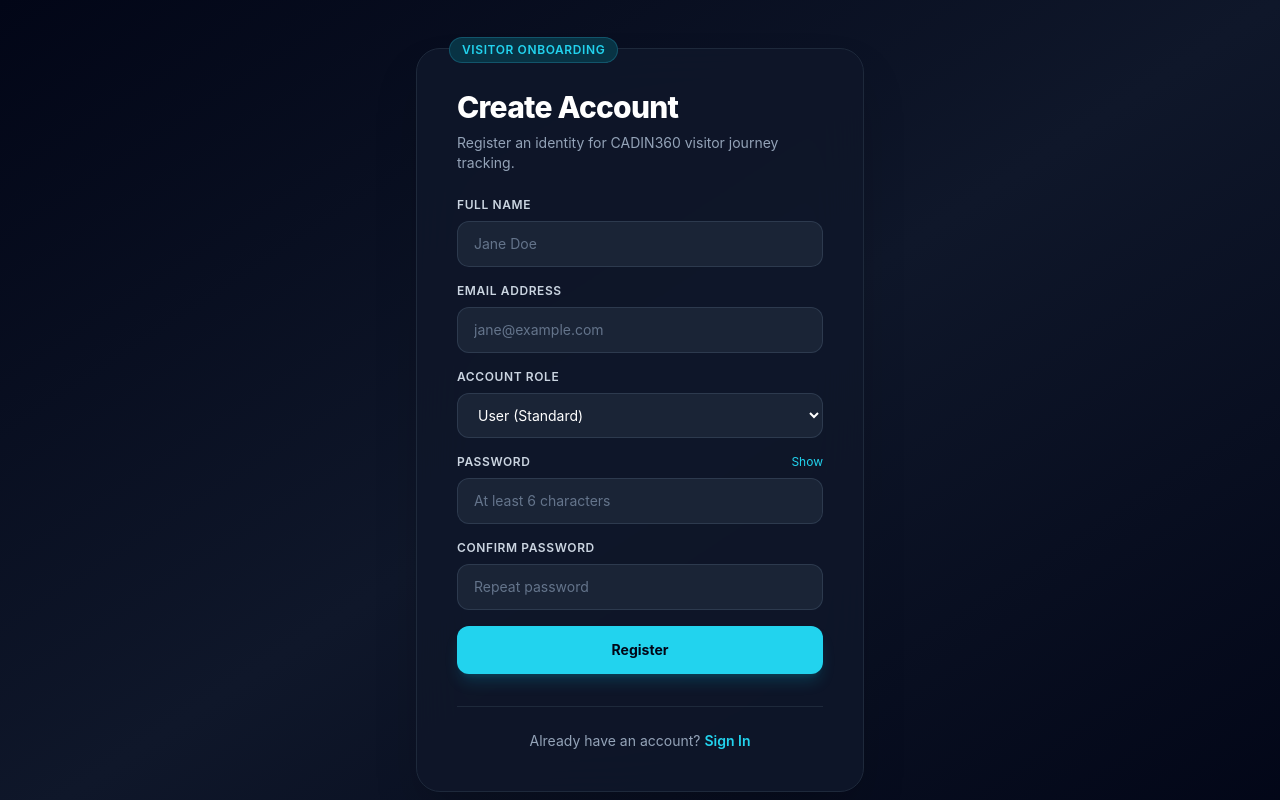
Test: Toast displays backend success message upon registration
Step 1. Type "Tester" into the field labelled "Full Name" → (640, 244), box [457,221,823,267]
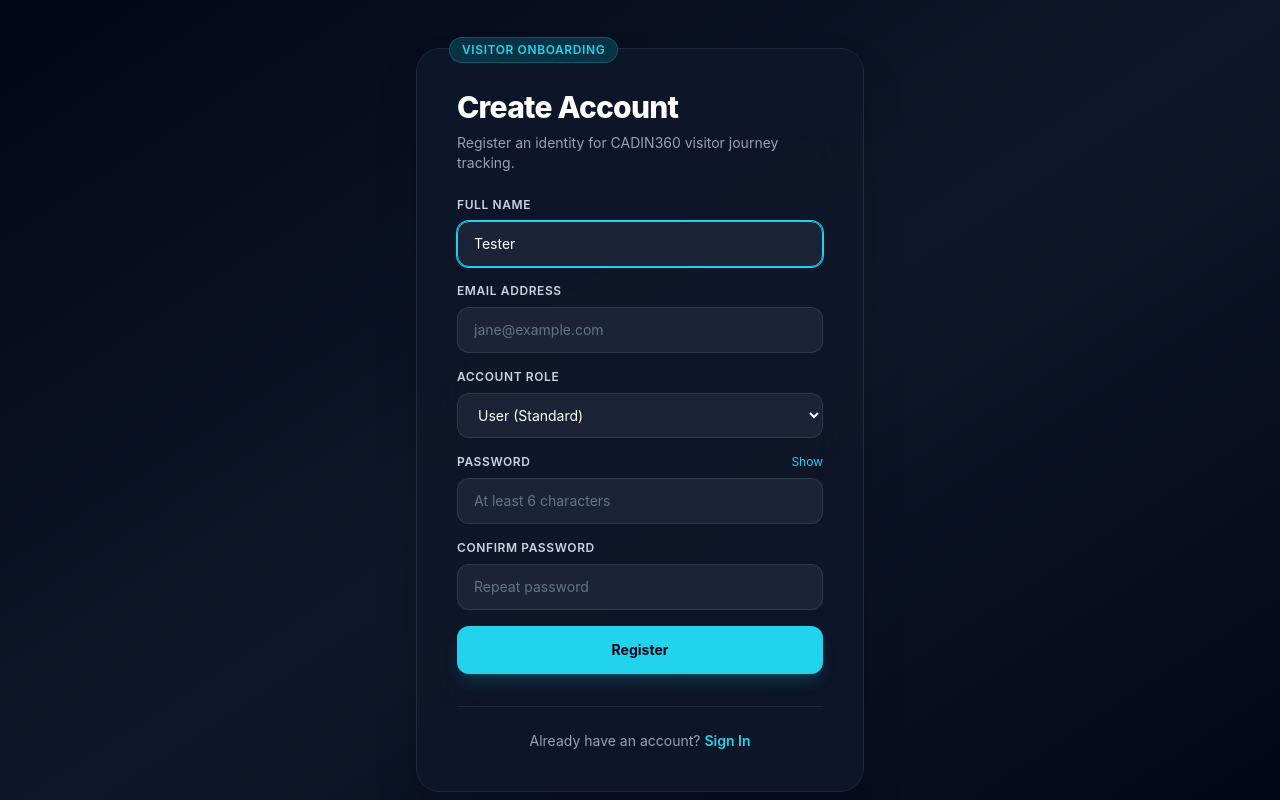
Step 2. Type "test@example.com" into the field labelled "Email Address" → (640, 330), box [457,307,823,353]
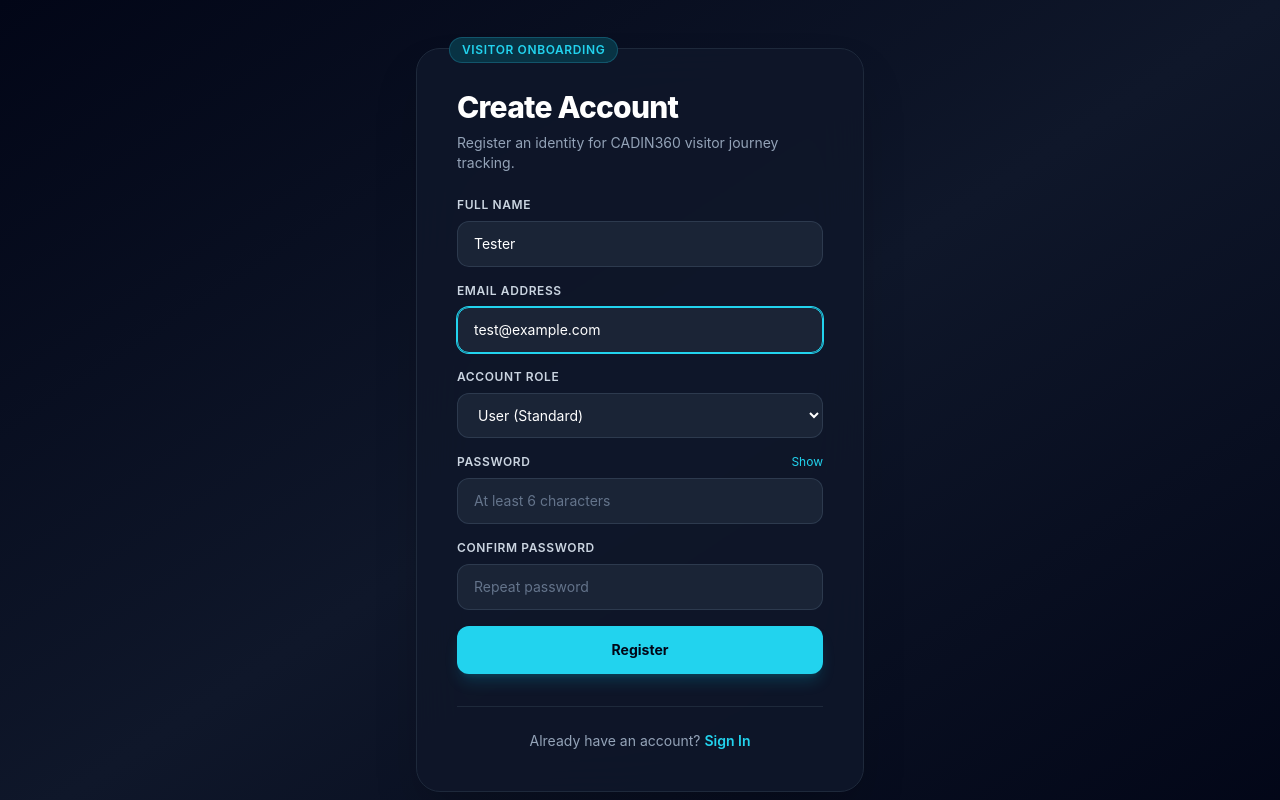
Step 3. Type "password123" into the password field labelled "Password" → (640, 501), box [457,478,823,524]
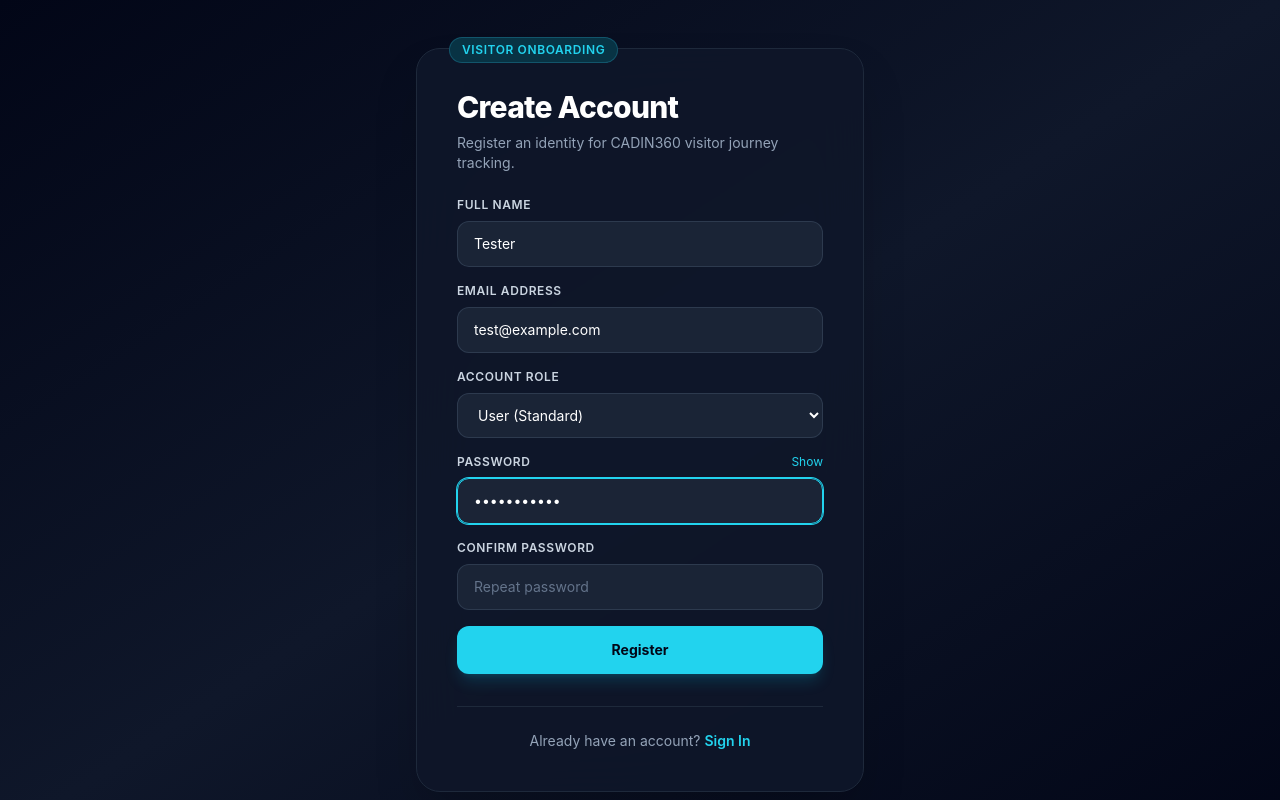
Step 4. Type "password123" into the password field labelled "Confirm Password" → (640, 587), box [457,564,823,610]
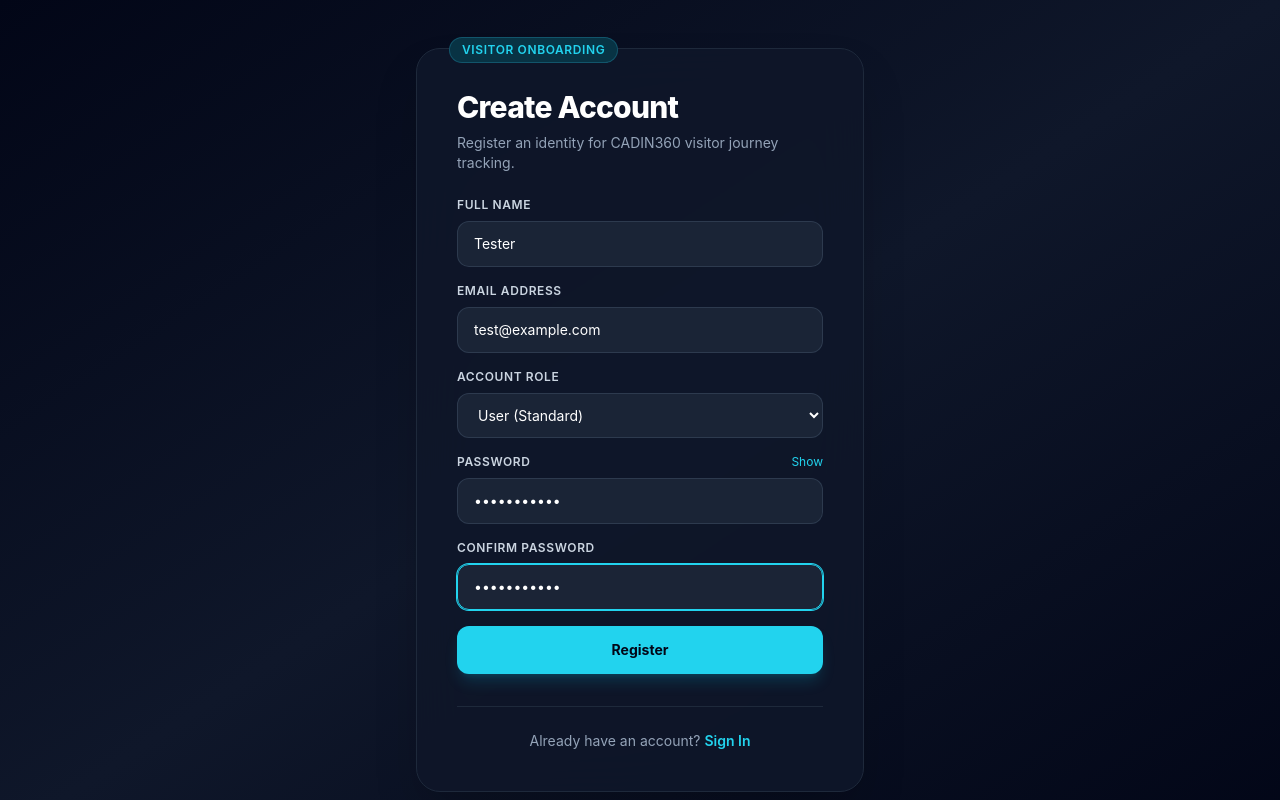
Step 5. Click the button "Register" → (640, 650), box [457,626,823,674]
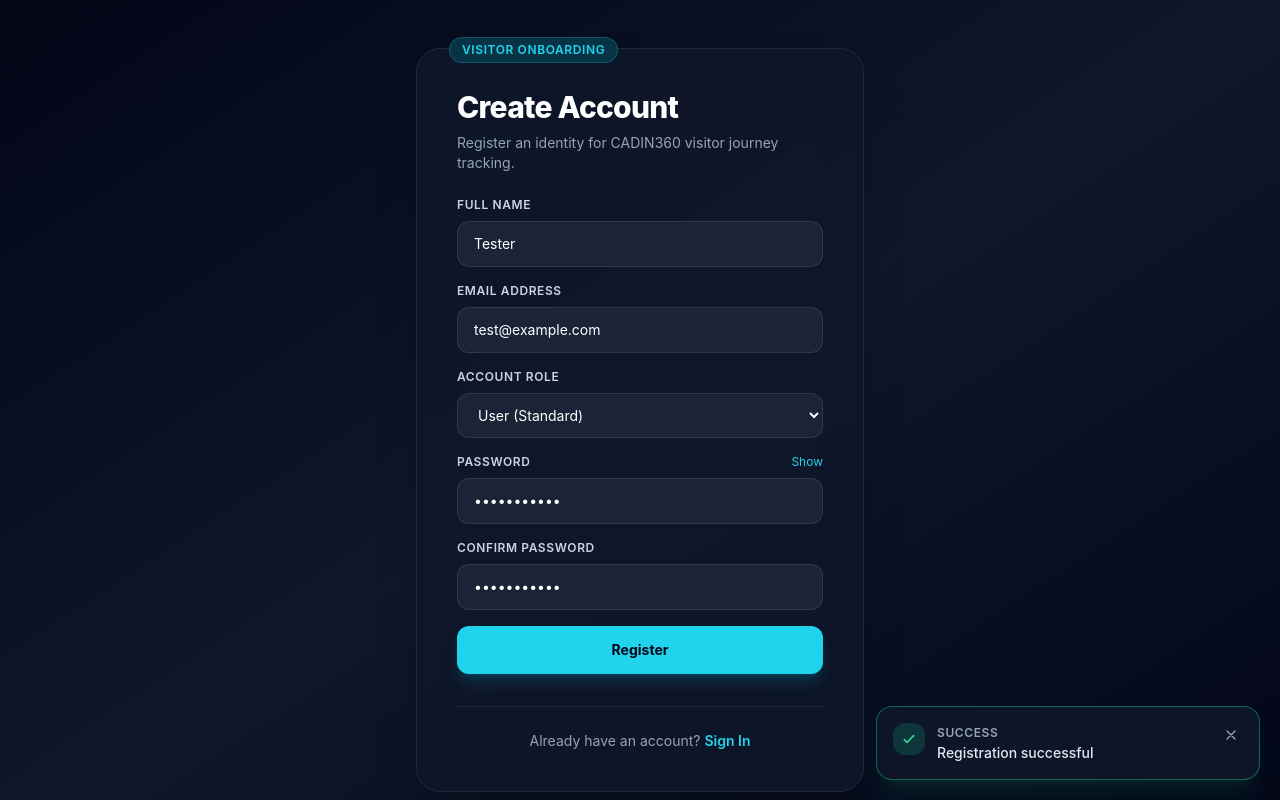
Check: the text "Registration successful" is shown, box [937,744,1094,761]
